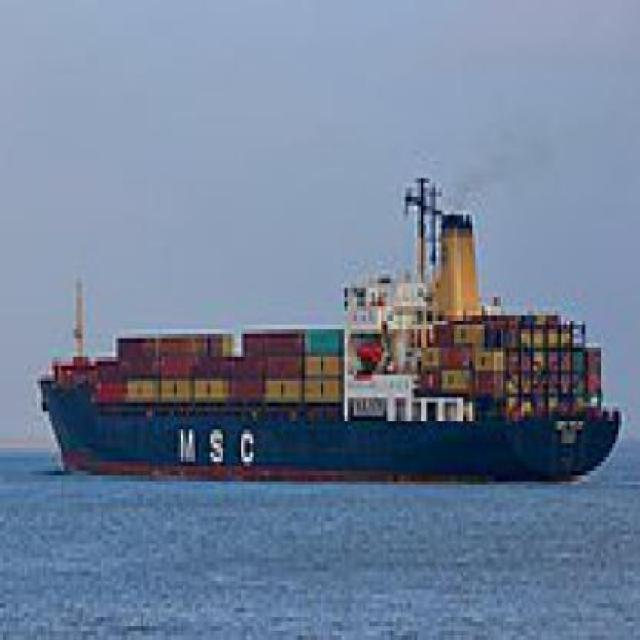container: (29, 166, 629, 495)
